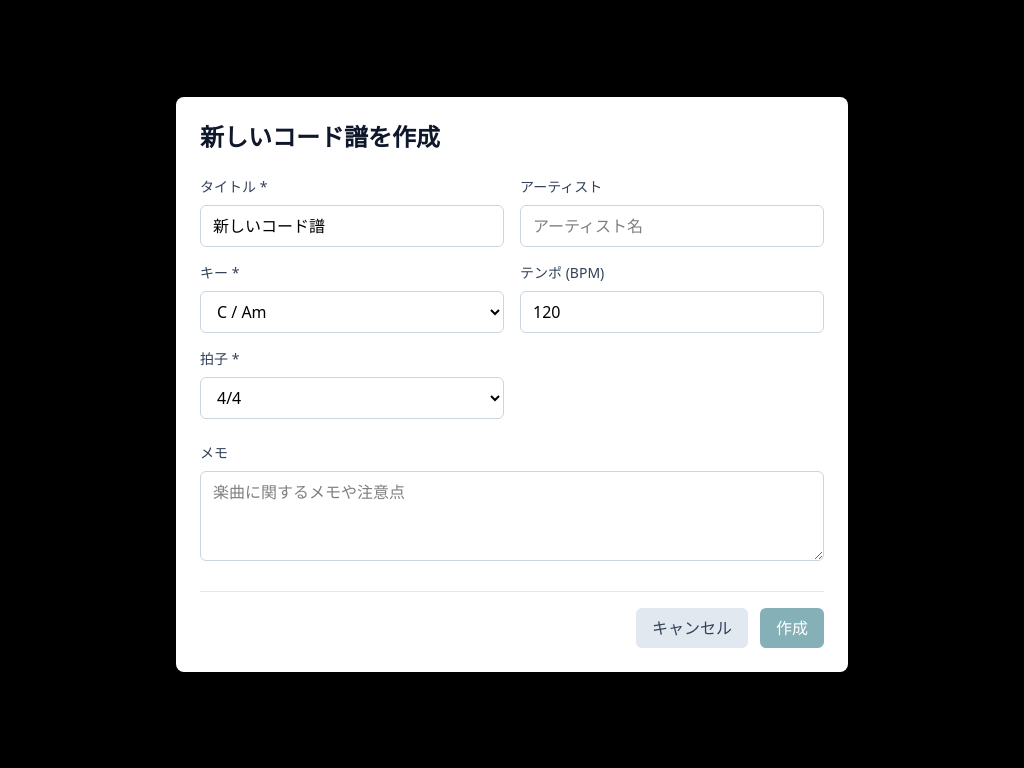
Test case: ChordChartForm › Form Validation › should show validation errors for empty required fields
This screenshot has width=1024, height=768.
Clear the field labelled "タイトル *": (352, 226) [200, 204, 504, 246]
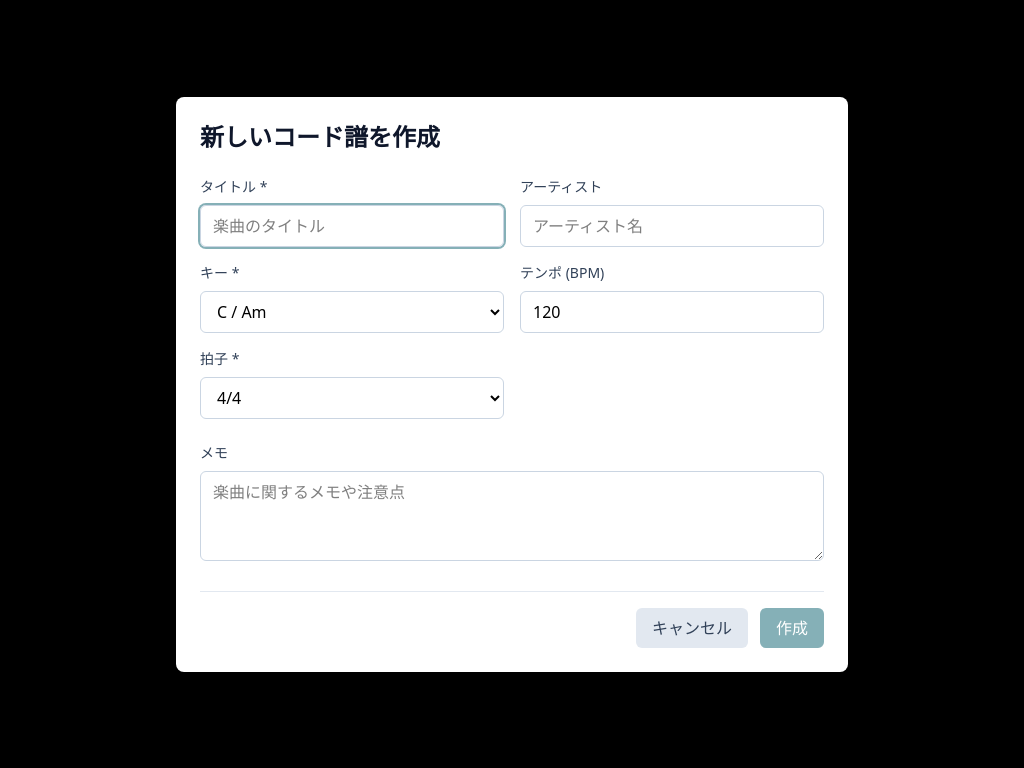
Click the button "作成": click(792, 628) [760, 608, 824, 648]
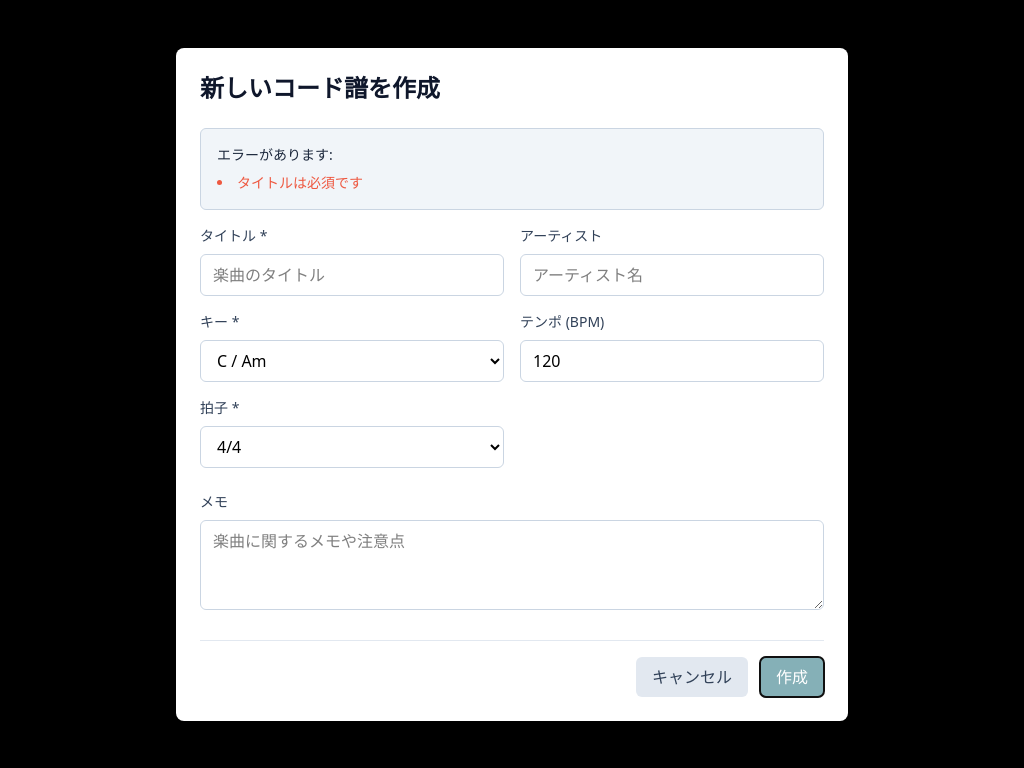
Result: the heading "エラーがあります:" is shown at [217, 144, 333, 164]
Result: the list item "タイトルは必須です" is shown at [237, 172, 363, 192]
